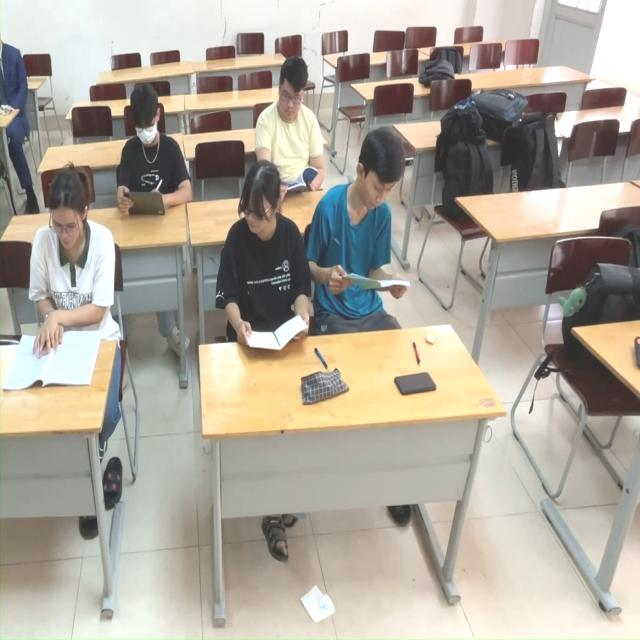read: (307, 128, 417, 334), (209, 159, 316, 365), (106, 79, 190, 224)
